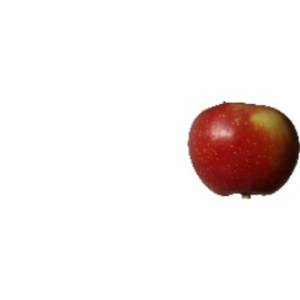maçã braeburn: (185, 100, 299, 200)
